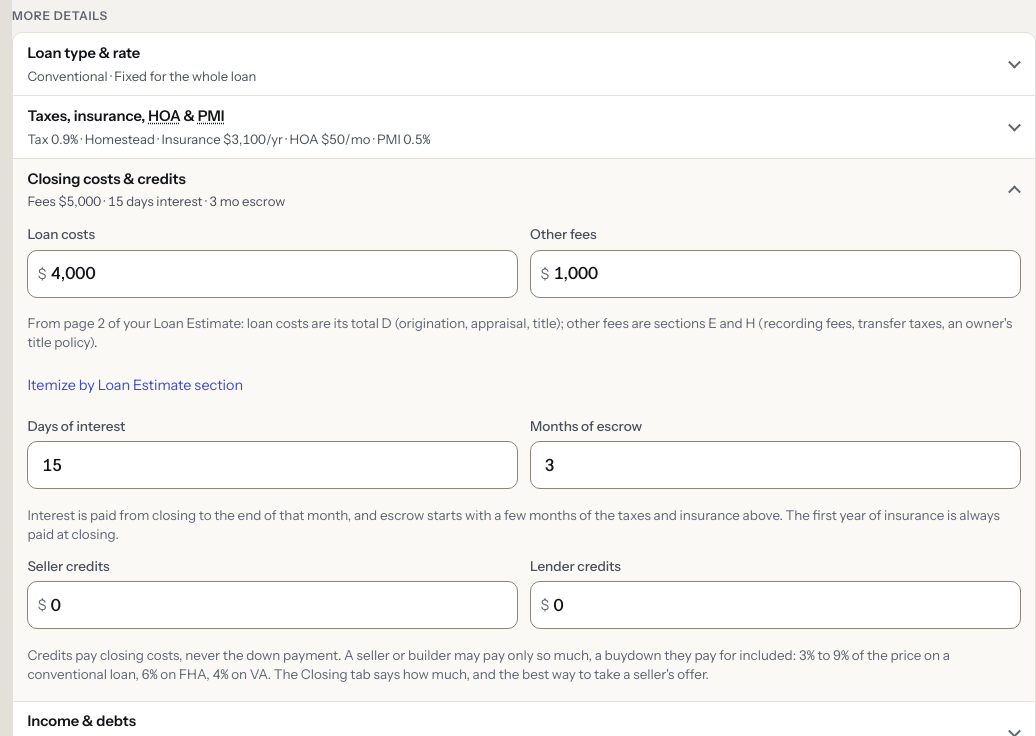
Test case: LoanFormComponent › itemized closing costs › adds the lines of each Loan Estimate section into the two totals the loan is figured on
(page scrolled)
Click the button "Itemize by Loan Estimate section": (135, 385) [27, 365, 243, 405]
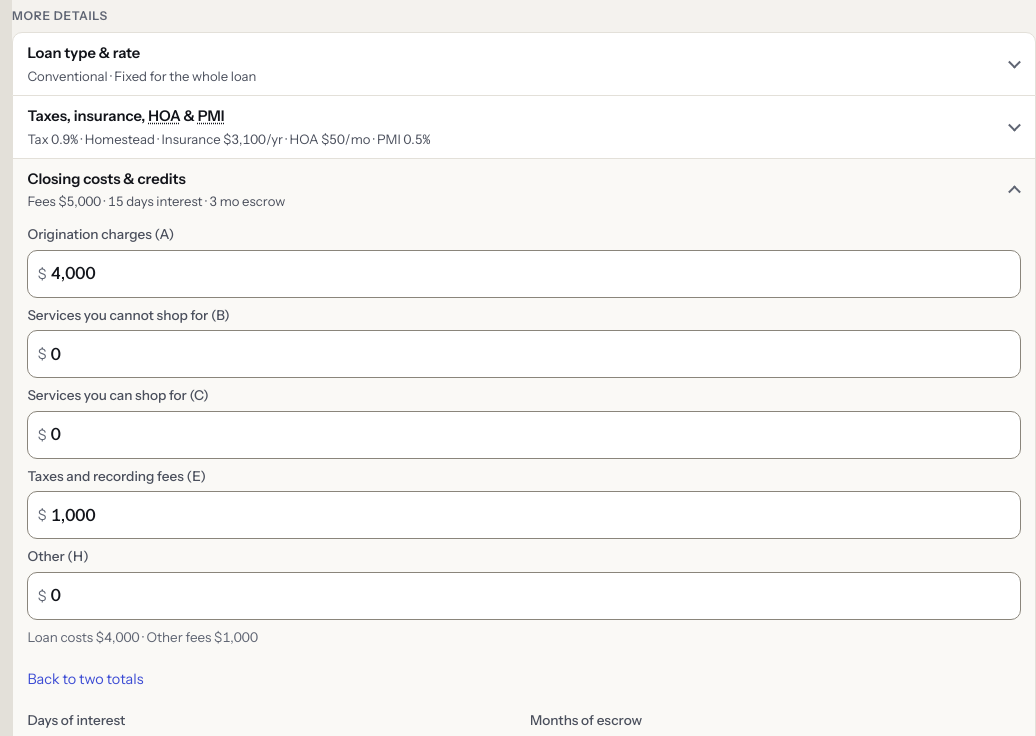
Replace the text in the field labelled "Origination charges (A)" with "2000": (524, 274) [27, 250, 1021, 298]
(page scrolled)
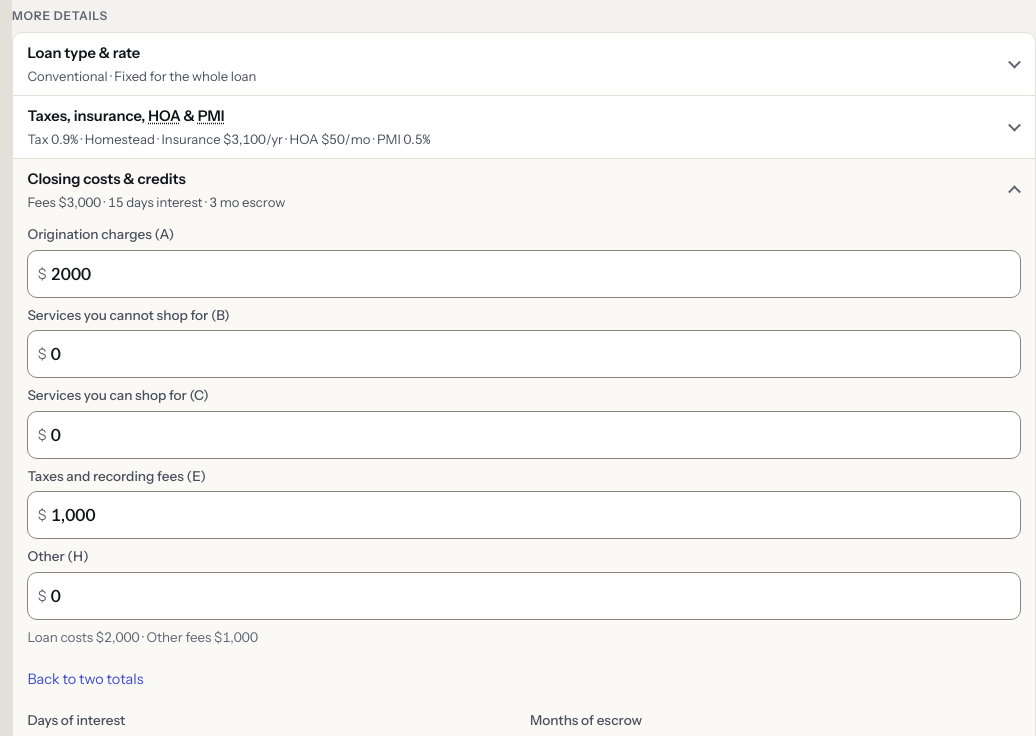
Replace the text in the field labelled "Services you cannot shop for (B)" with "900": (524, 354) [27, 330, 1021, 378]
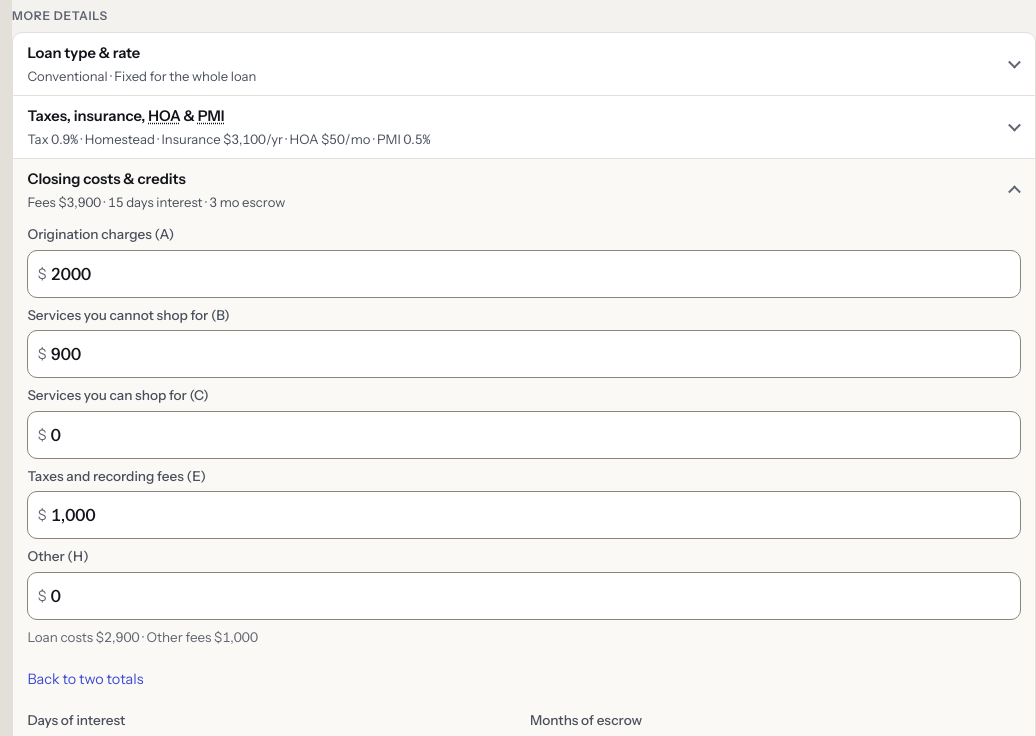
Replace the text in the field labelled "Services you can shop for (C)" with "1100": (524, 435) [27, 411, 1021, 459]
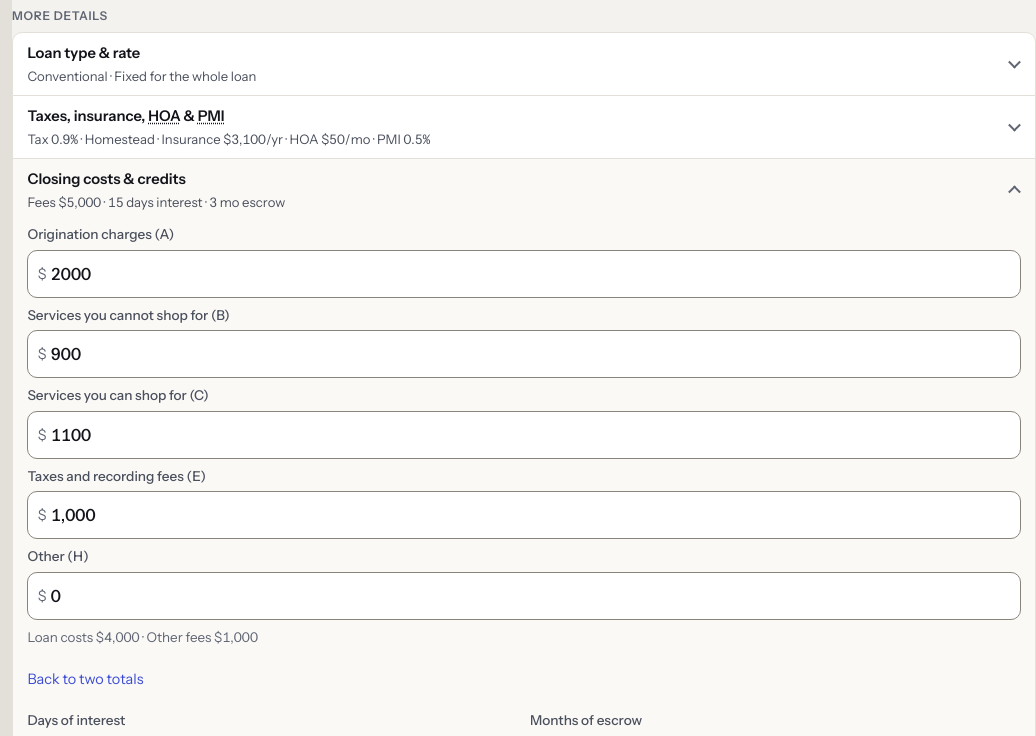
Replace the text in the field labelled "Taxes and recording fees (E)" with "300": (524, 515) [27, 491, 1021, 539]
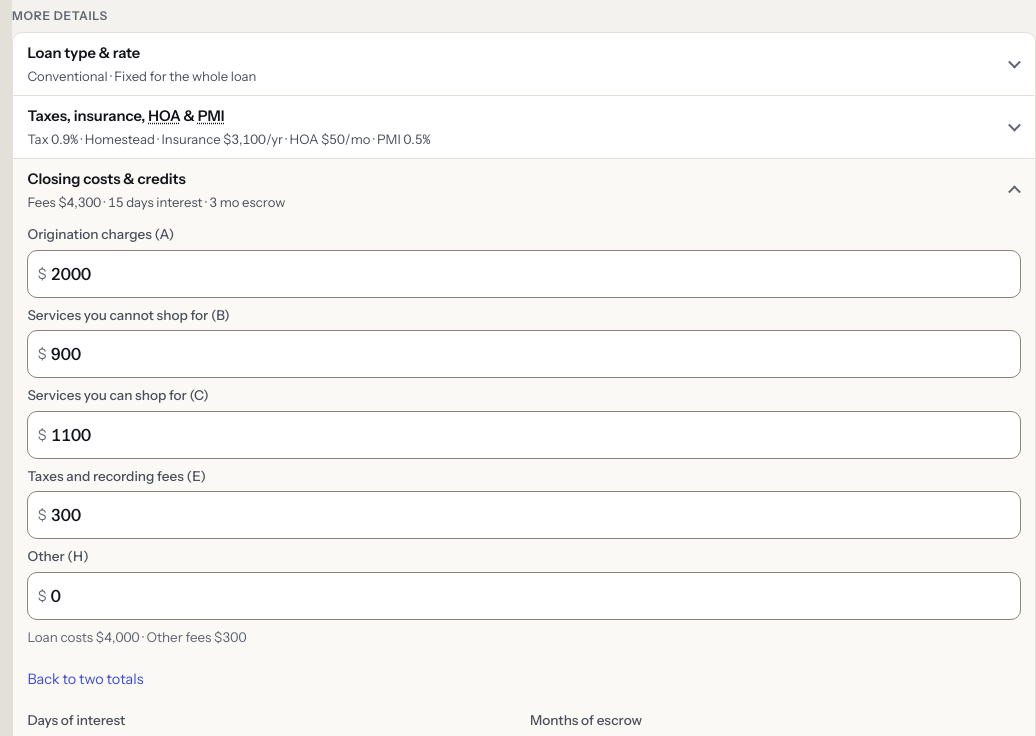
Replace the text in the field labelled "Other (H)" with "450": (524, 596) [27, 572, 1021, 620]
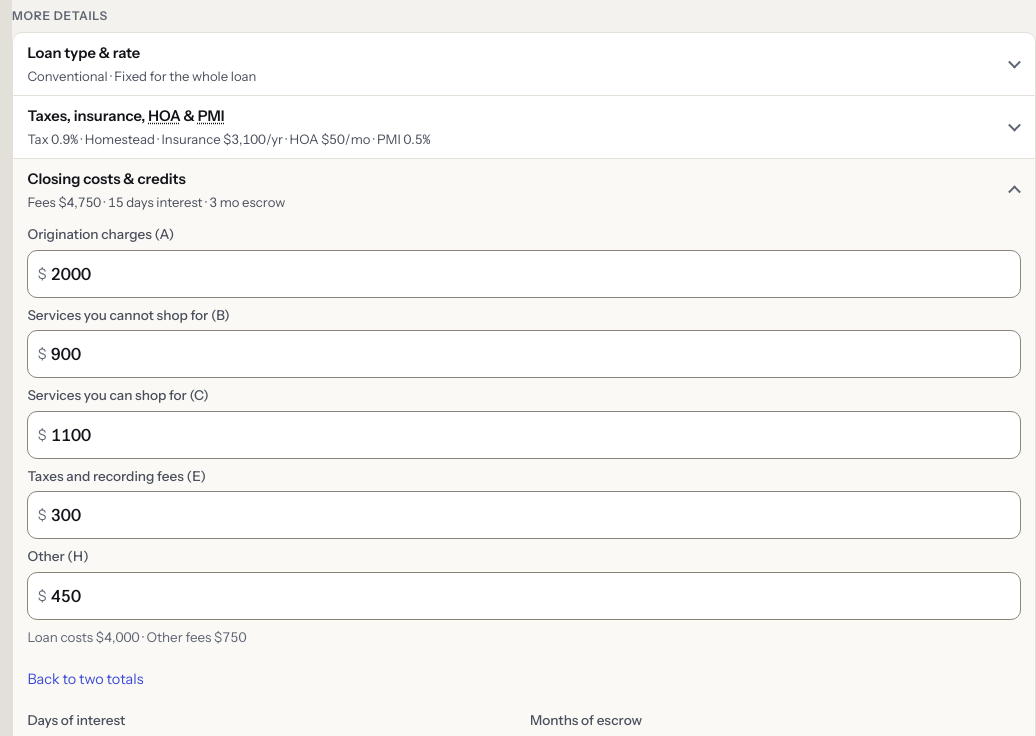
Check: the text "Loan costs $4,000 · Other fees $750" is shown, box [27, 629, 246, 645]
